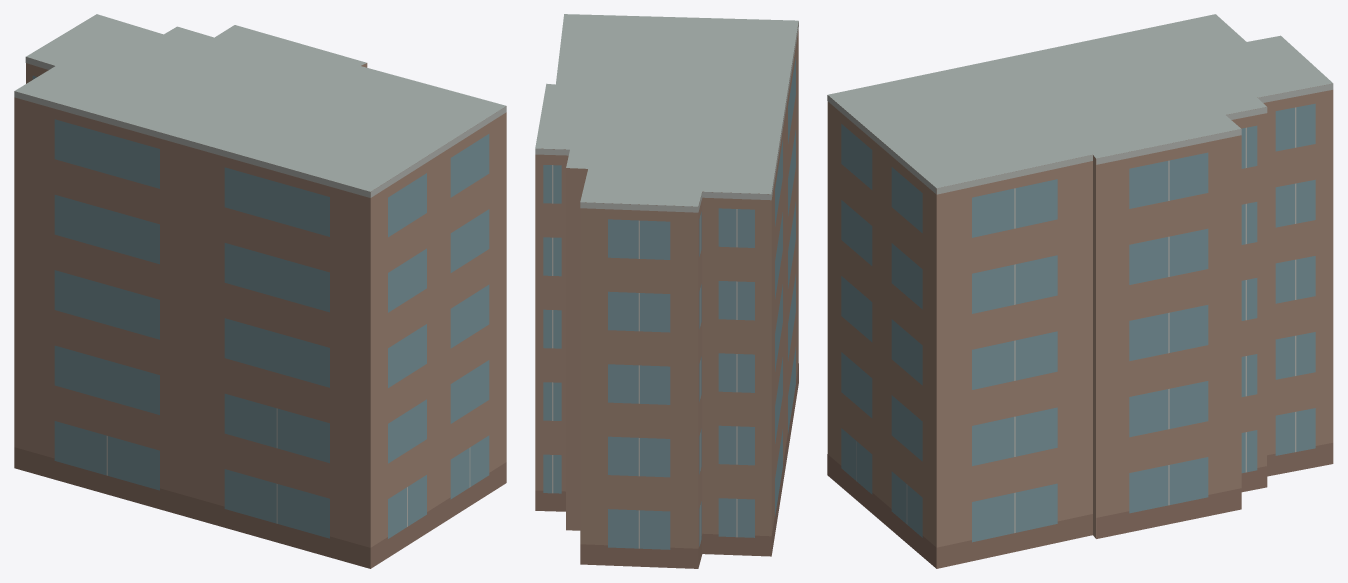
The model's file is survey-upis-32709892.glb.
The picture shows the model from 3 angles, left to right: view 1: azimuth 30°, elevation 25°; view 2: azimuth 150°, elevation 25°; view 3: azimuth 270°, elevation 25°; orthographic projection. The views are drawn at different scales.
Parts seen in each view (by area): view 1: survey-upis-32709892.tmp; view 2: survey-upis-32709892.tmp; view 3: survey-upis-32709892.tmp.
Part boxes in pixels (x1,y1,x2,y2): survey-upis-32709892.tmp: (14, 14, 506, 568); survey-upis-32709892.tmp: (535, 14, 798, 568); survey-upis-32709892.tmp: (827, 14, 1333, 568).
Size of the model in its own units: 14.46 by 14.7 by 17.72.
